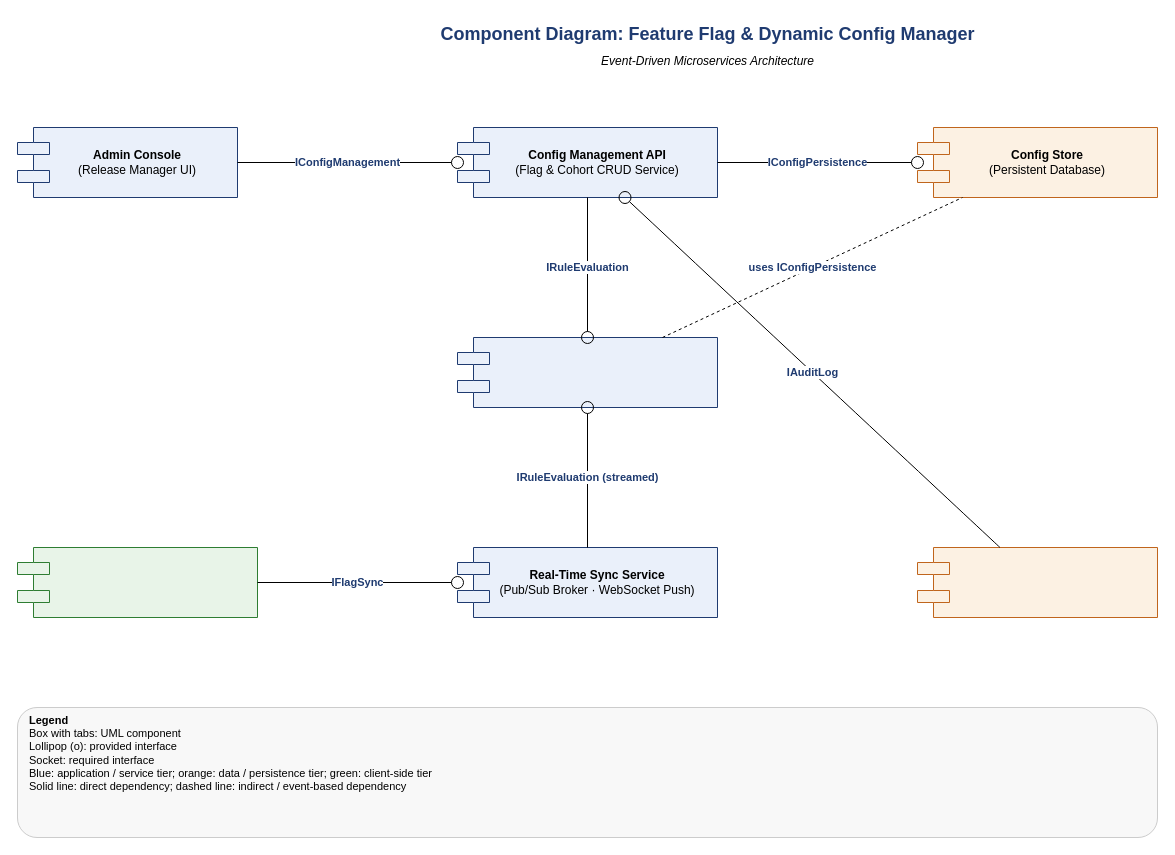
This 1175x855 diagram has some shape labels left out. Each missing label, with the centre of its shape:
"Audit & Analytics Logger (Change History & Usage Metrics)" belongs at [1037,582].
"Client SDK (Embedded in Consuming App)" belongs at [137,582].
"Rule Evaluation Engine (Hashing & Cohort Targeting Logic)" belongs at [587,372].
